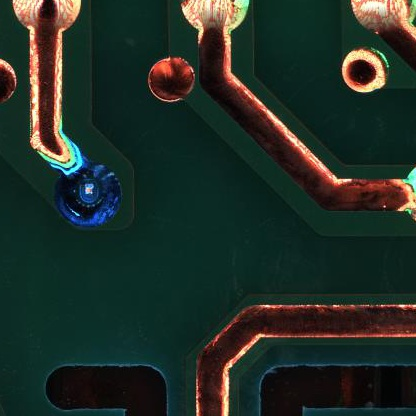spot: (53, 162, 124, 228)
